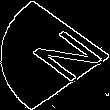N_SE: (10, 22, 100, 88)
